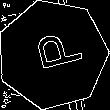P_W: (23, 30, 82, 79)
